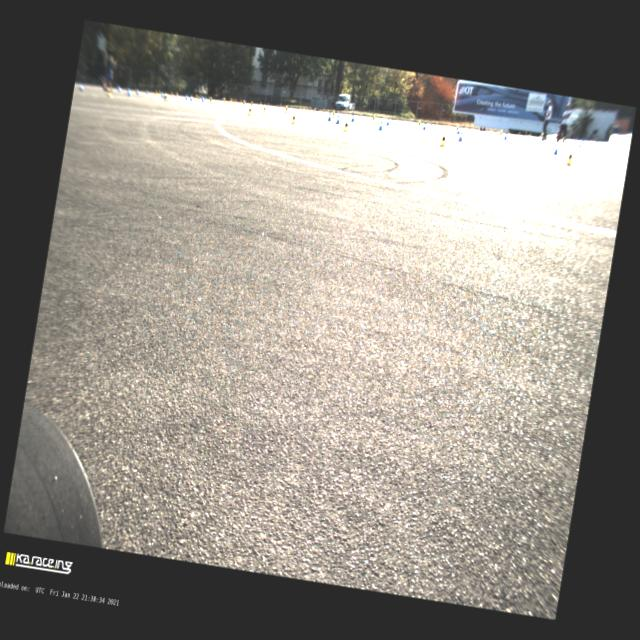blue_cone: (334, 114, 342, 125), (554, 142, 560, 156), (458, 132, 464, 142), (350, 112, 356, 122), (378, 120, 383, 131), (327, 112, 332, 122), (503, 132, 508, 141), (422, 122, 427, 130), (386, 118, 390, 126), (457, 126, 461, 134), (184, 94, 188, 101), (190, 94, 193, 101), (201, 96, 204, 102), (359, 113, 362, 118), (290, 104, 292, 110), (344, 111, 346, 116)
yellow_cone: (564, 151, 574, 166), (438, 133, 446, 147), (342, 121, 350, 132), (290, 114, 298, 125), (208, 96, 213, 105), (262, 105, 266, 114), (284, 105, 288, 114), (248, 108, 252, 116), (417, 120, 421, 128), (166, 94, 170, 102), (332, 110, 336, 118), (499, 130, 503, 138), (242, 100, 246, 107), (372, 115, 375, 124), (455, 124, 458, 132), (250, 101, 253, 108), (195, 95, 198, 101), (223, 98, 226, 104), (298, 106, 302, 110), (239, 99, 242, 104), (279, 103, 282, 108), (309, 107, 312, 112), (314, 107, 317, 112), (326, 109, 329, 114), (348, 112, 351, 116), (260, 101, 262, 106)
